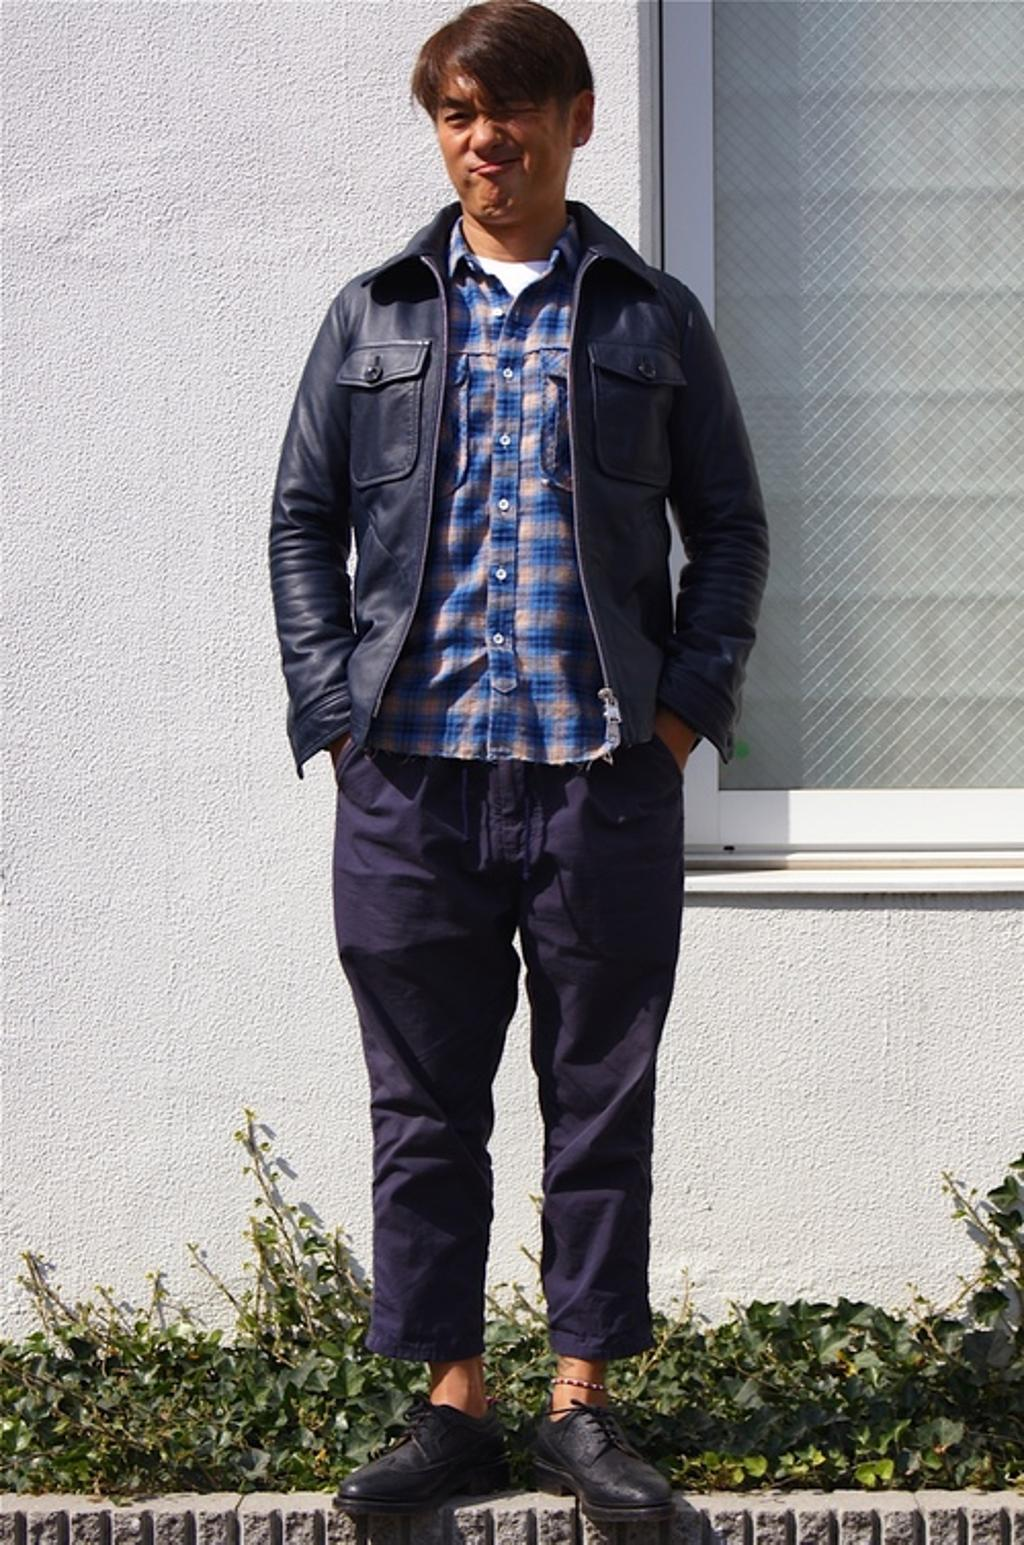face: (434, 33, 545, 202)
